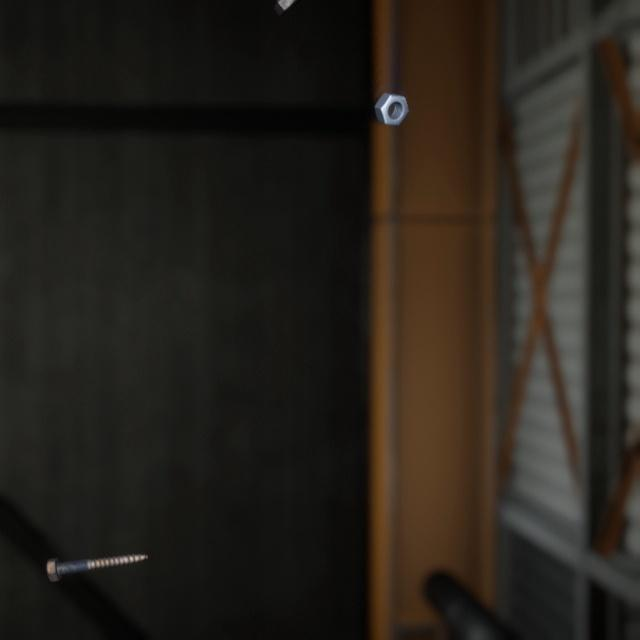bolt: (42, 526, 152, 563)
nut: (369, 77, 413, 119)
